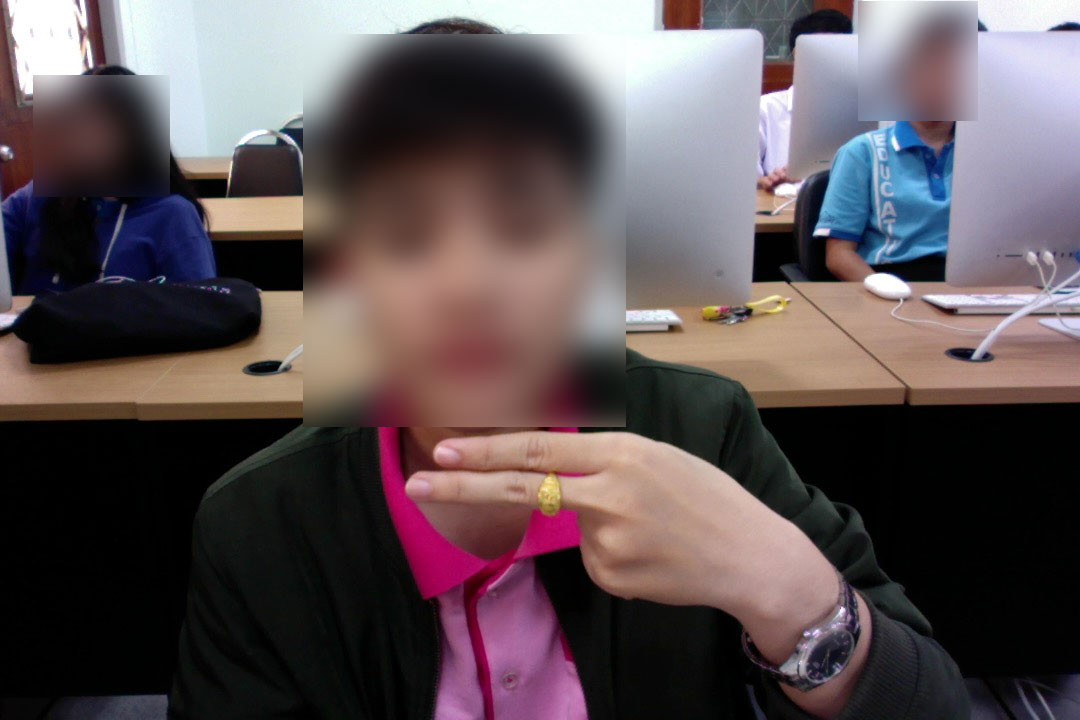hor: (400, 421, 818, 618)
